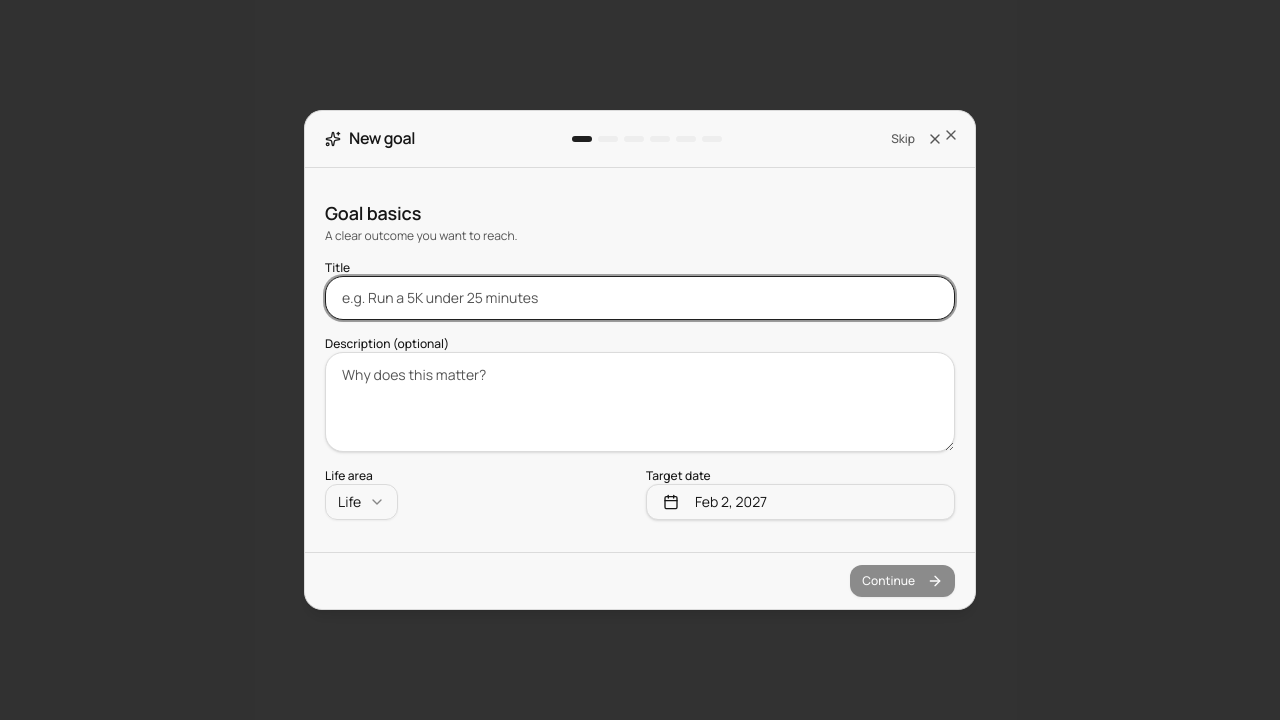
Test case: NewGoalWizard Workflow › completes new goal creation
Later steps or results of the test are not shown.
Check: the heading "Goal basics" is shown, box [325,203,421,225]
Type "My New Test Goal" into the field with placeholder "e.g. Run a 5K under 25 minutes".
click(640, 298); type("My New Test Goal")  # box [325,276,955,320]
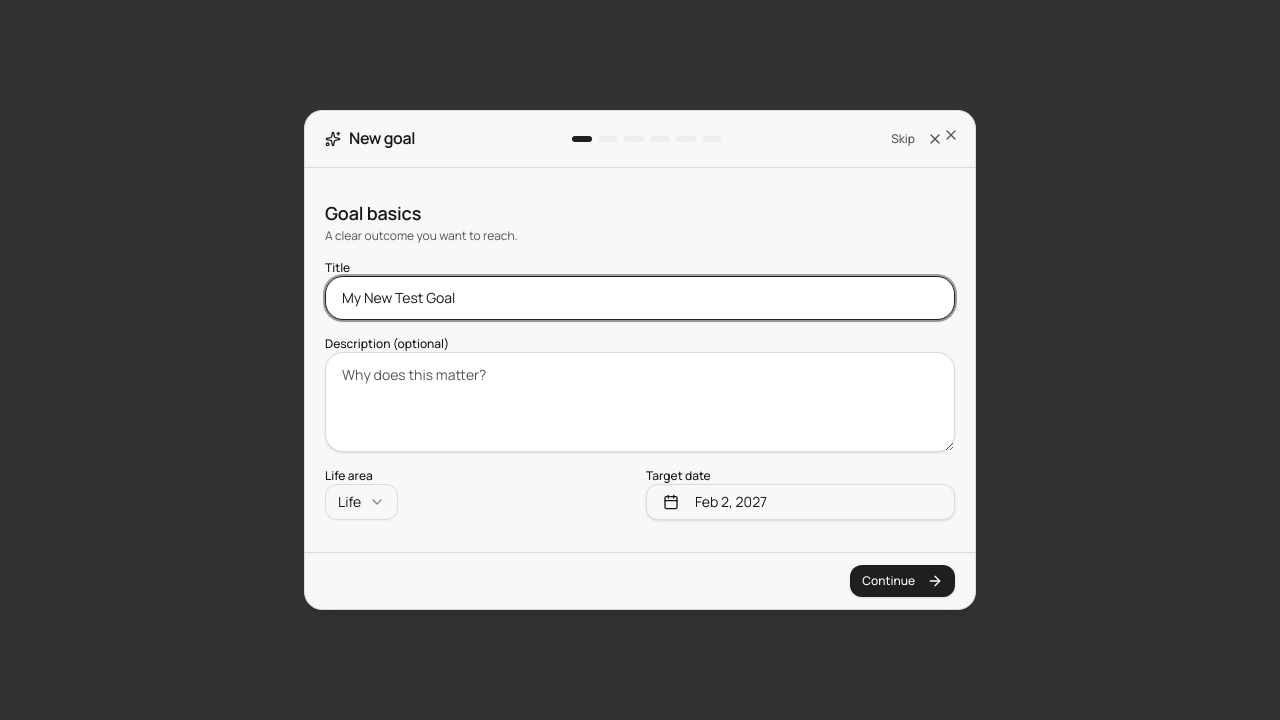
Click the button "Continue".
click(903, 581)  # box [850,565,955,597]
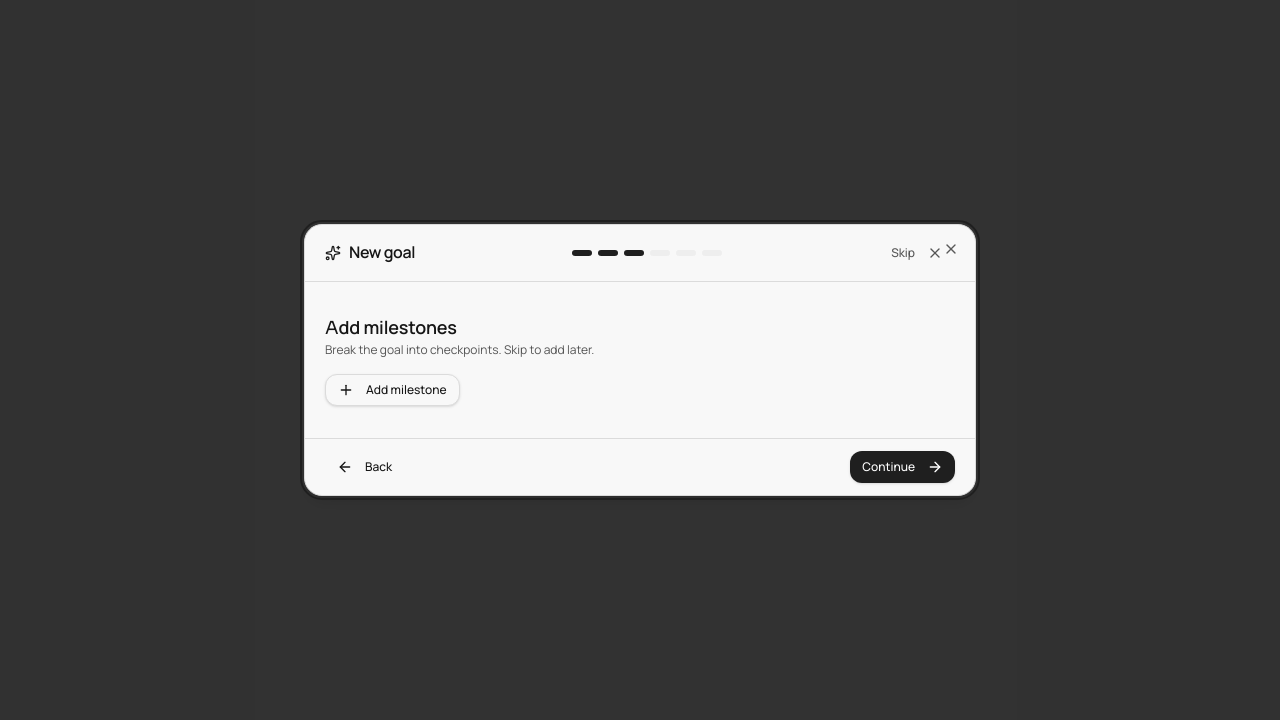
Check: the heading "Add milestones" is shown, box [325,317,457,339]
Click the button "Continue".
click(903, 467)  # box [850,451,955,483]
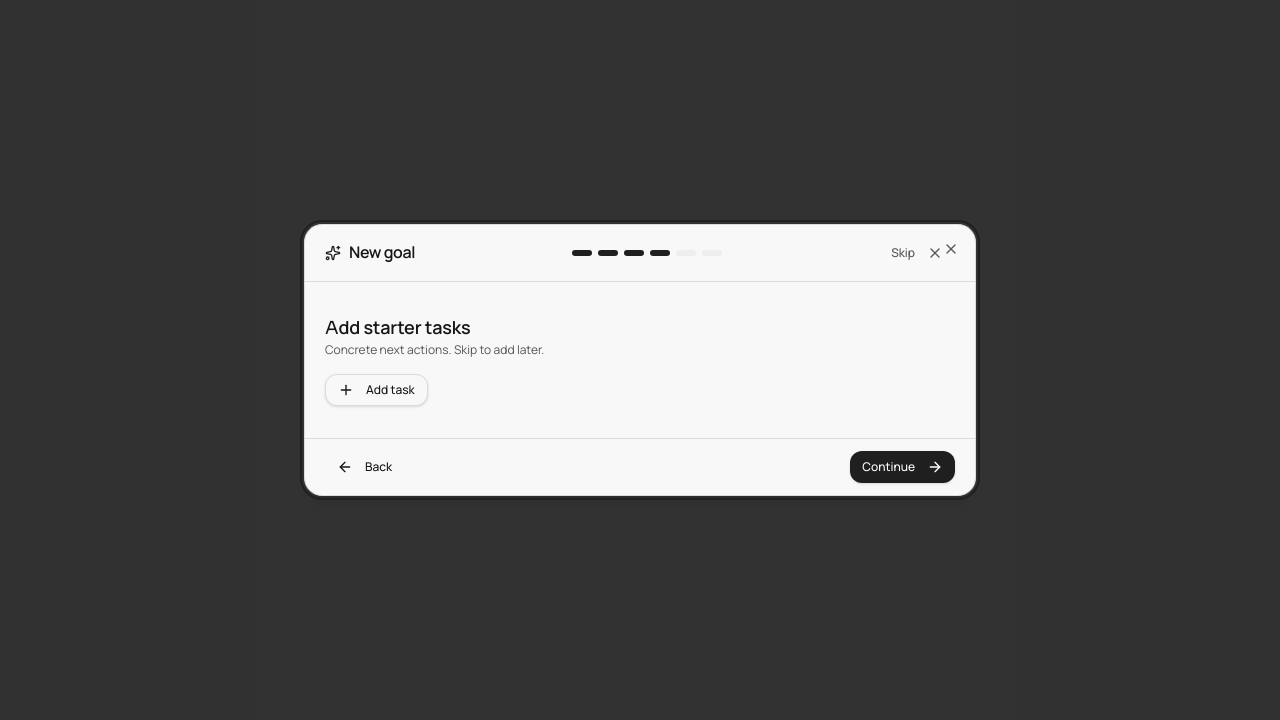
Check: the heading "Add starter tasks" is shown, box [325,317,470,339]
Click the button "Continue".
click(903, 467)  # box [850,451,955,483]
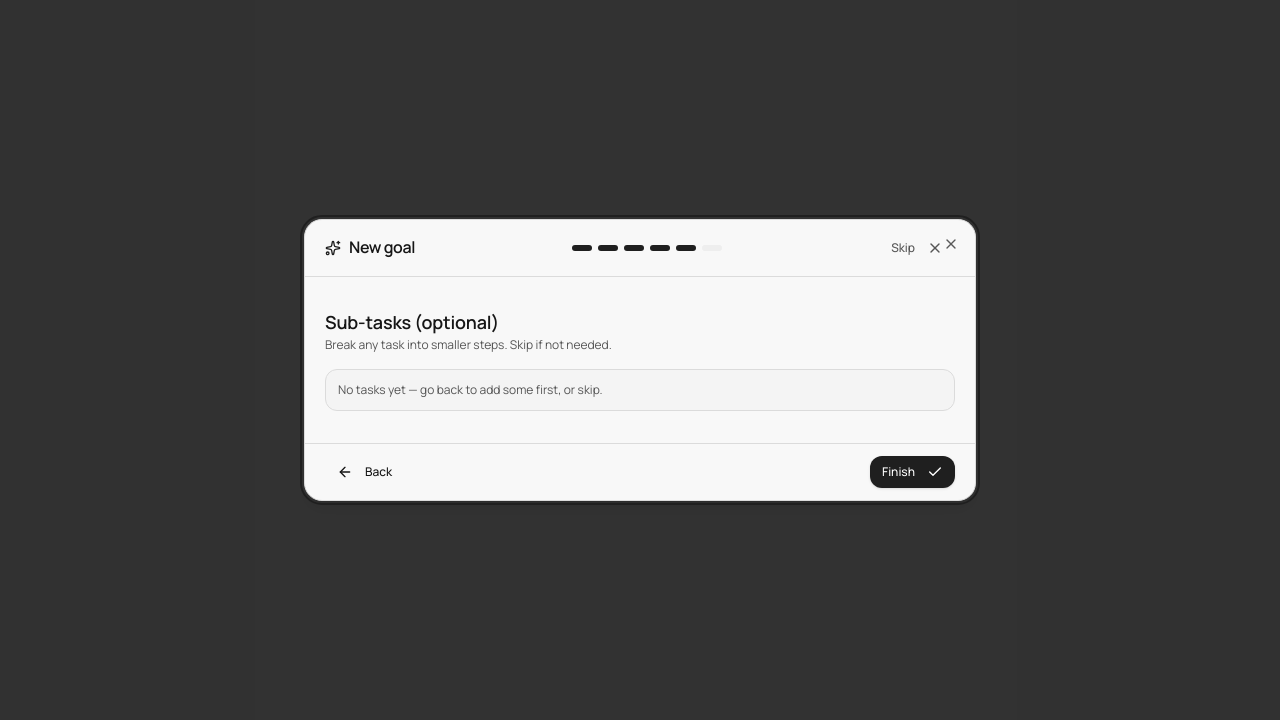
Check: the heading "Sub-tasks (optional)" is shown, box [325,312,499,334]
Click the button "Finish".
click(912, 472)  # box [870,456,955,488]
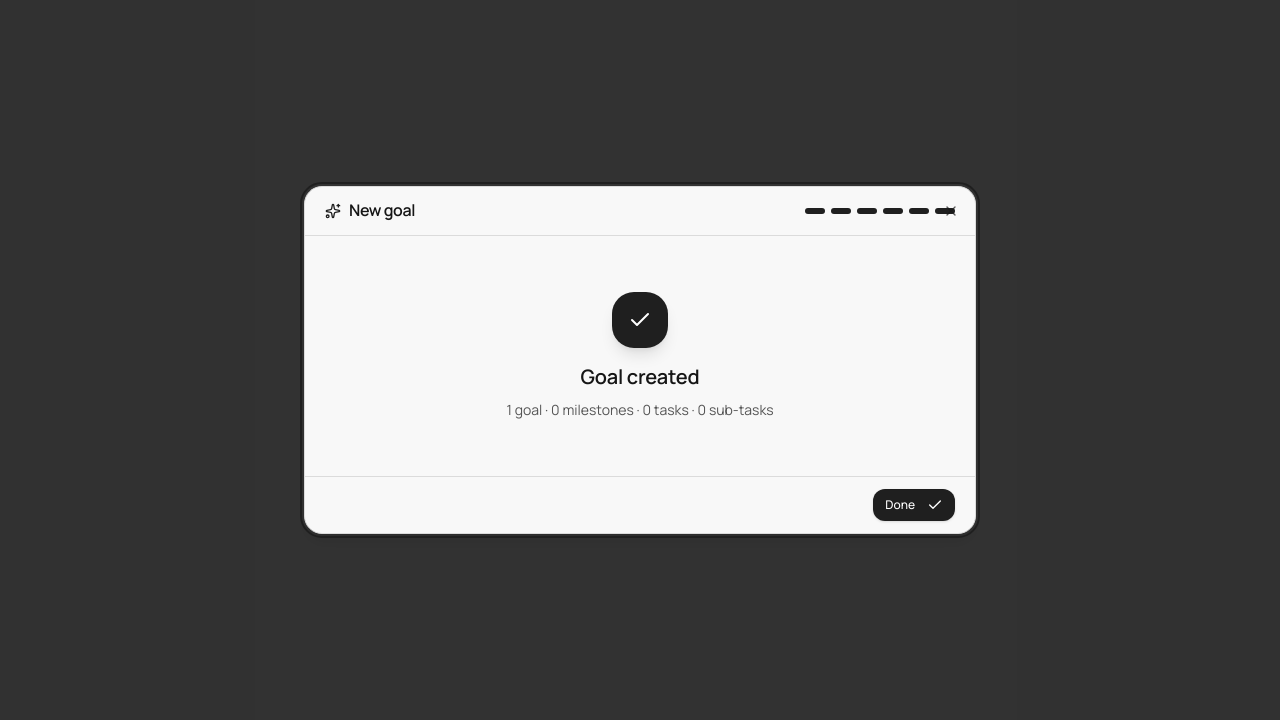
Check: the heading "Goal created" is shown, box [580,365,700,390]
